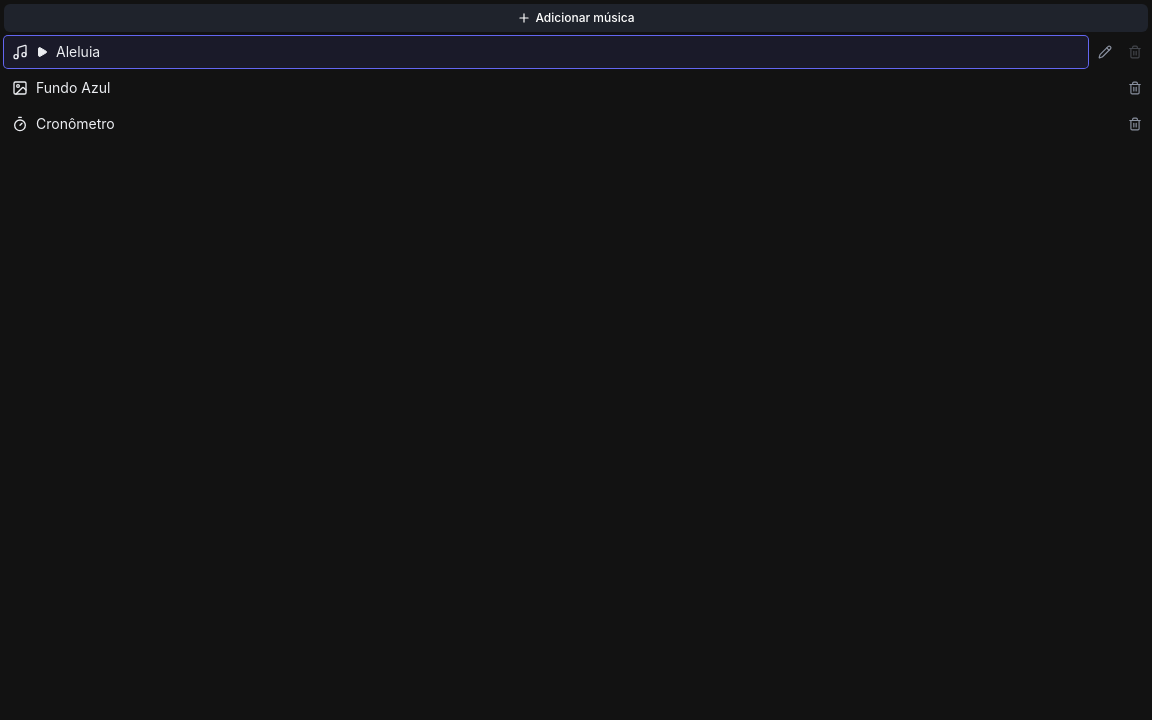
Test: SetItemList editable › add song opens the picker
This screenshot has width=1152, height=720.
Step 1. Click the button "Adicionar música" → (576, 18), box [4,4,1148,32]
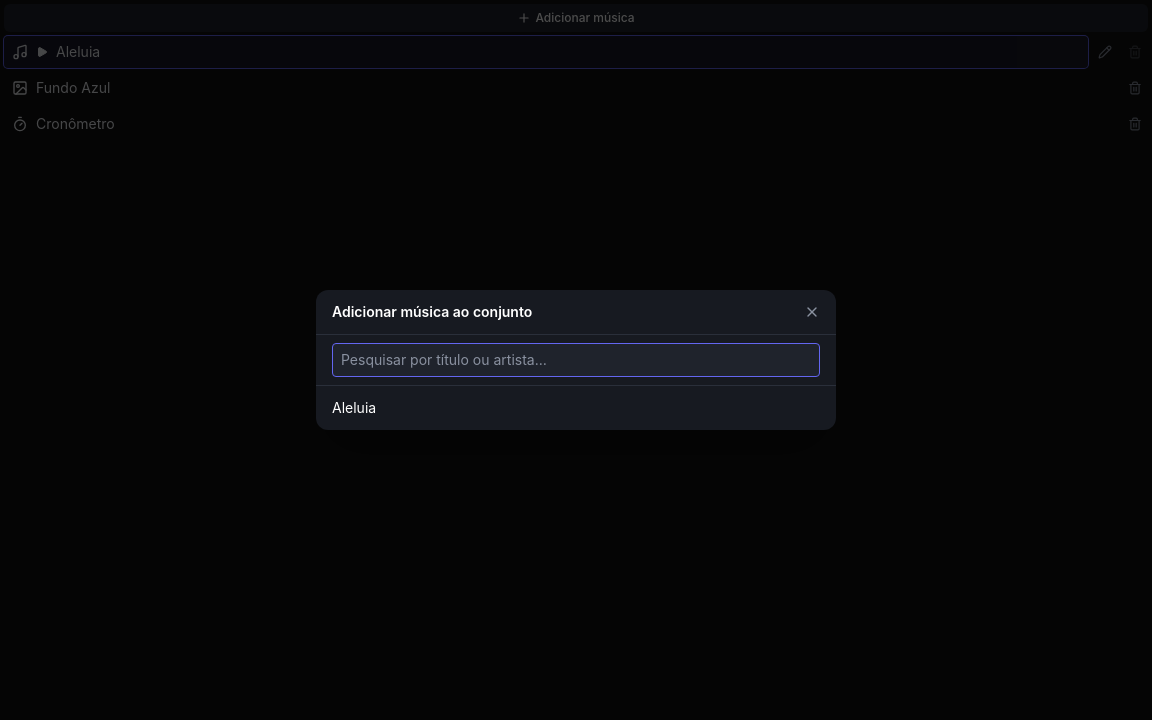
Expected: the dialog "Adicionar música ao conjunto" is shown, [316,290,836,430]
